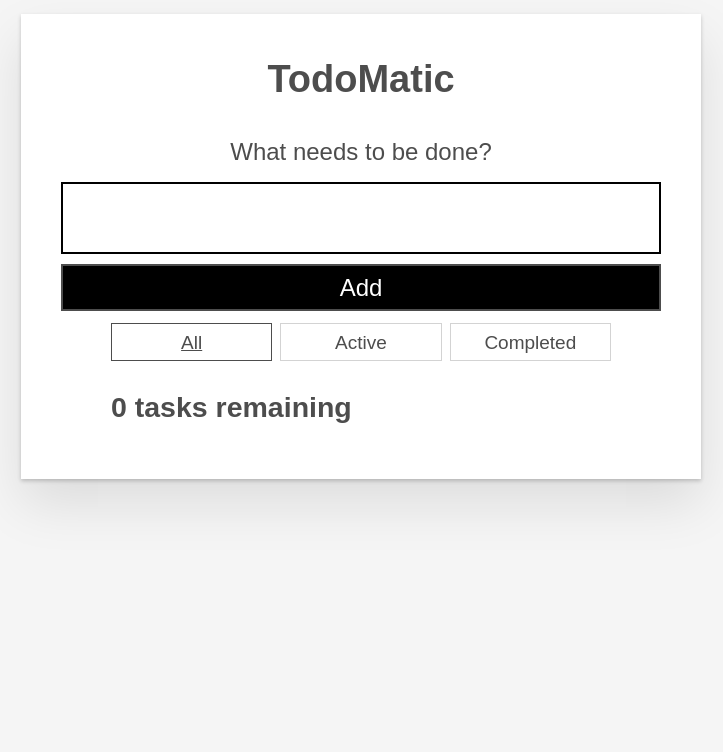
Scenario: Todo App › filters completed tasks
In the field labelled "What needs to be done?": {"x": 361, "y": 218} [61, 182, 661, 254], type "Task 1"
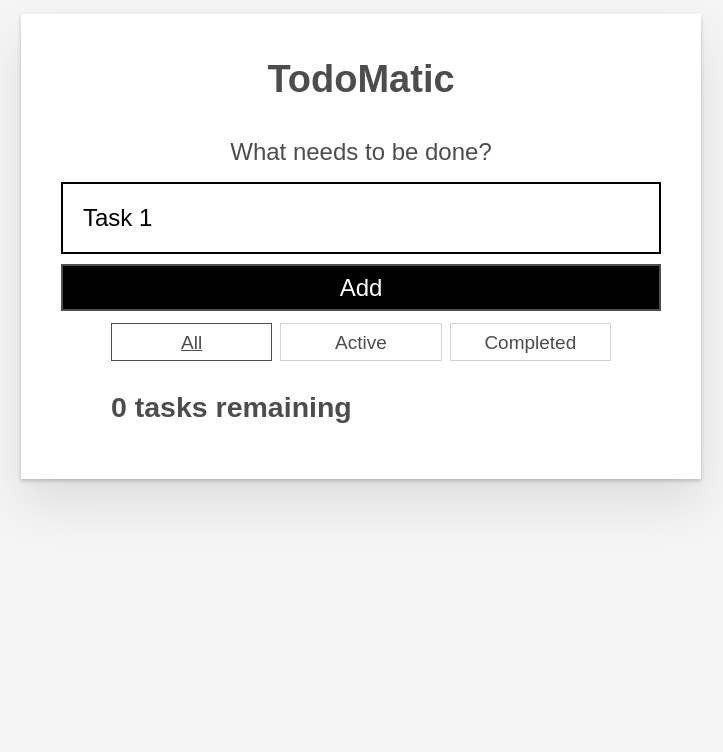
Click the button "Add": {"x": 361, "y": 287} [61, 264, 661, 311]
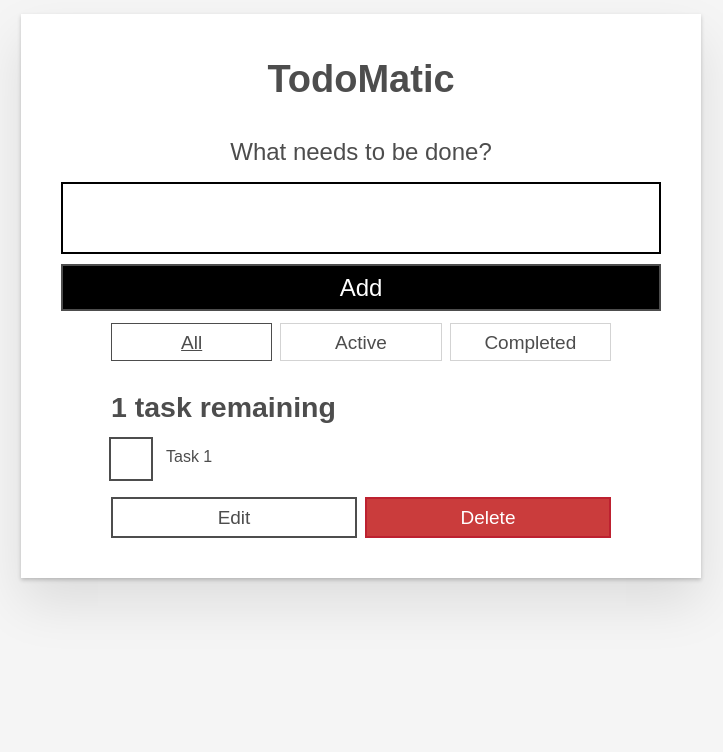
In the field labelled "What needs to be done?": {"x": 361, "y": 218} [61, 182, 661, 254], type "Task 2"
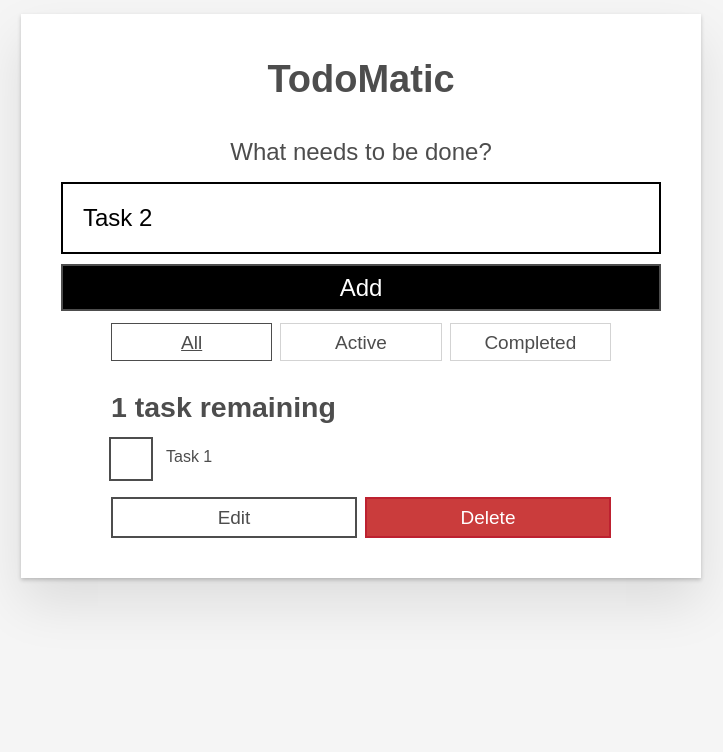
Click the button "Add": {"x": 361, "y": 287} [61, 264, 661, 311]
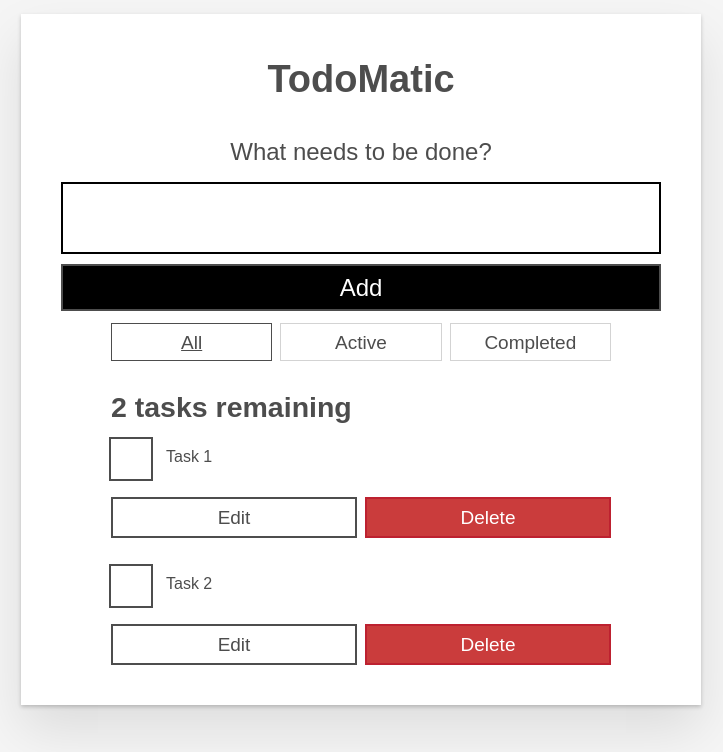
Click the checkbox labelled "Task 2": {"x": 189, "y": 582} [151, 566, 227, 599]
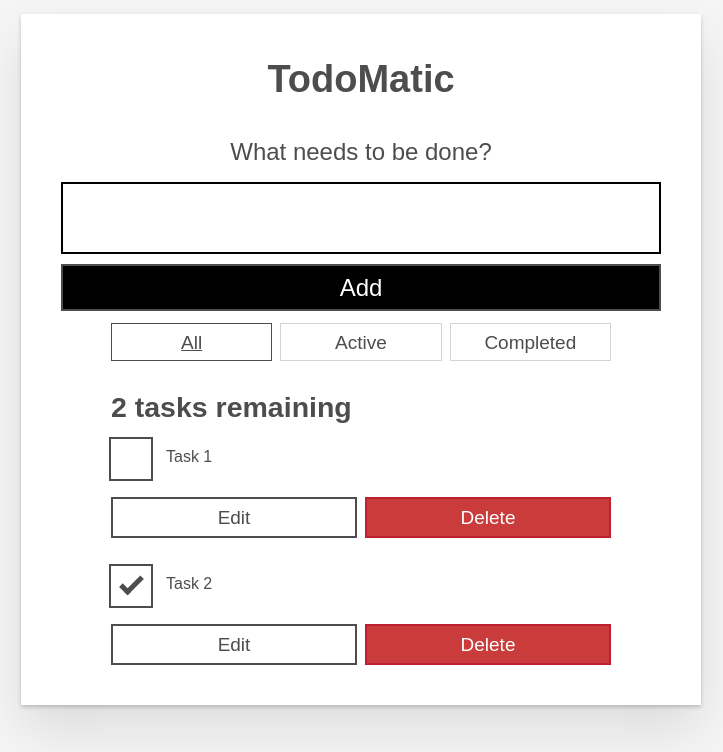
Click the button "Completed": {"x": 530, "y": 342} [450, 323, 611, 361]
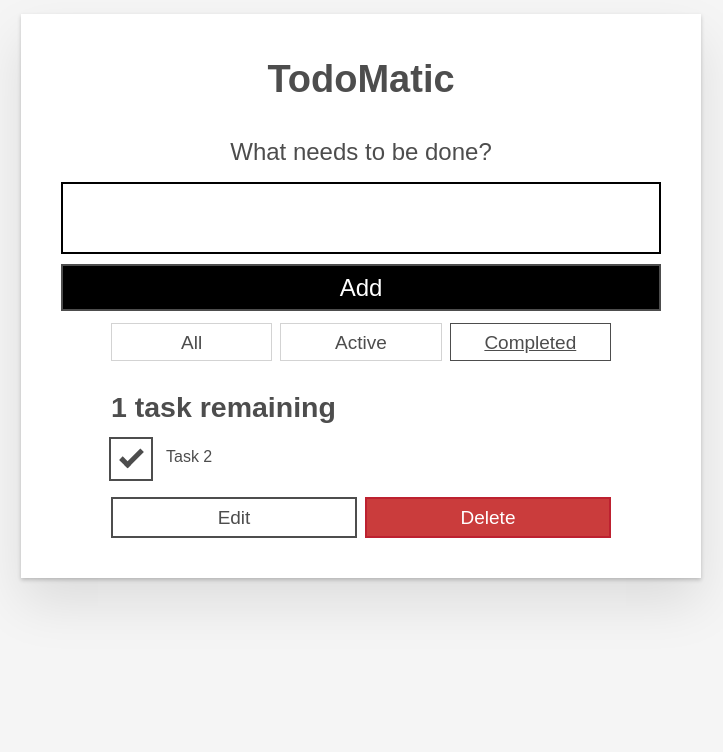
Expected: the checkbox "Task 1" is gone
